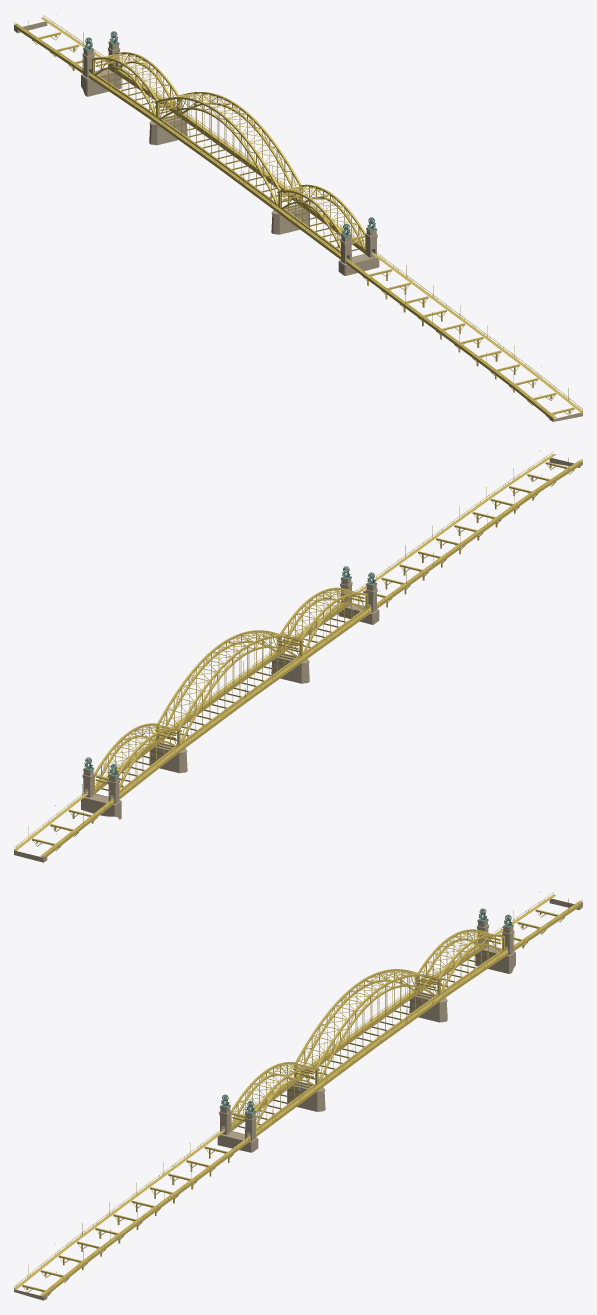
The model's file is pit-16th-street-bridge.detail.glb.
3 renders of one model, top to bottom at view 1: azimuth 30°, elevation 25°; view 2: azimuth 150°, elevation 25°; view 3: azimuth 330°, elevation 25°, orthographic.
Parts seen in each view (by area): view 1: 16th Street Bridge; view 2: 16th Street Bridge; view 3: 16th Street Bridge.
Boxes of the visible parts, x1,y1,x2,y2 form: 16th Street Bridge: (14,14,582,421); 16th Street Bridge: (14,450,582,862); 16th Street Bridge: (14,891,582,1300).
Size of the model in its own units: 23.2 by 45.2 by 591.
